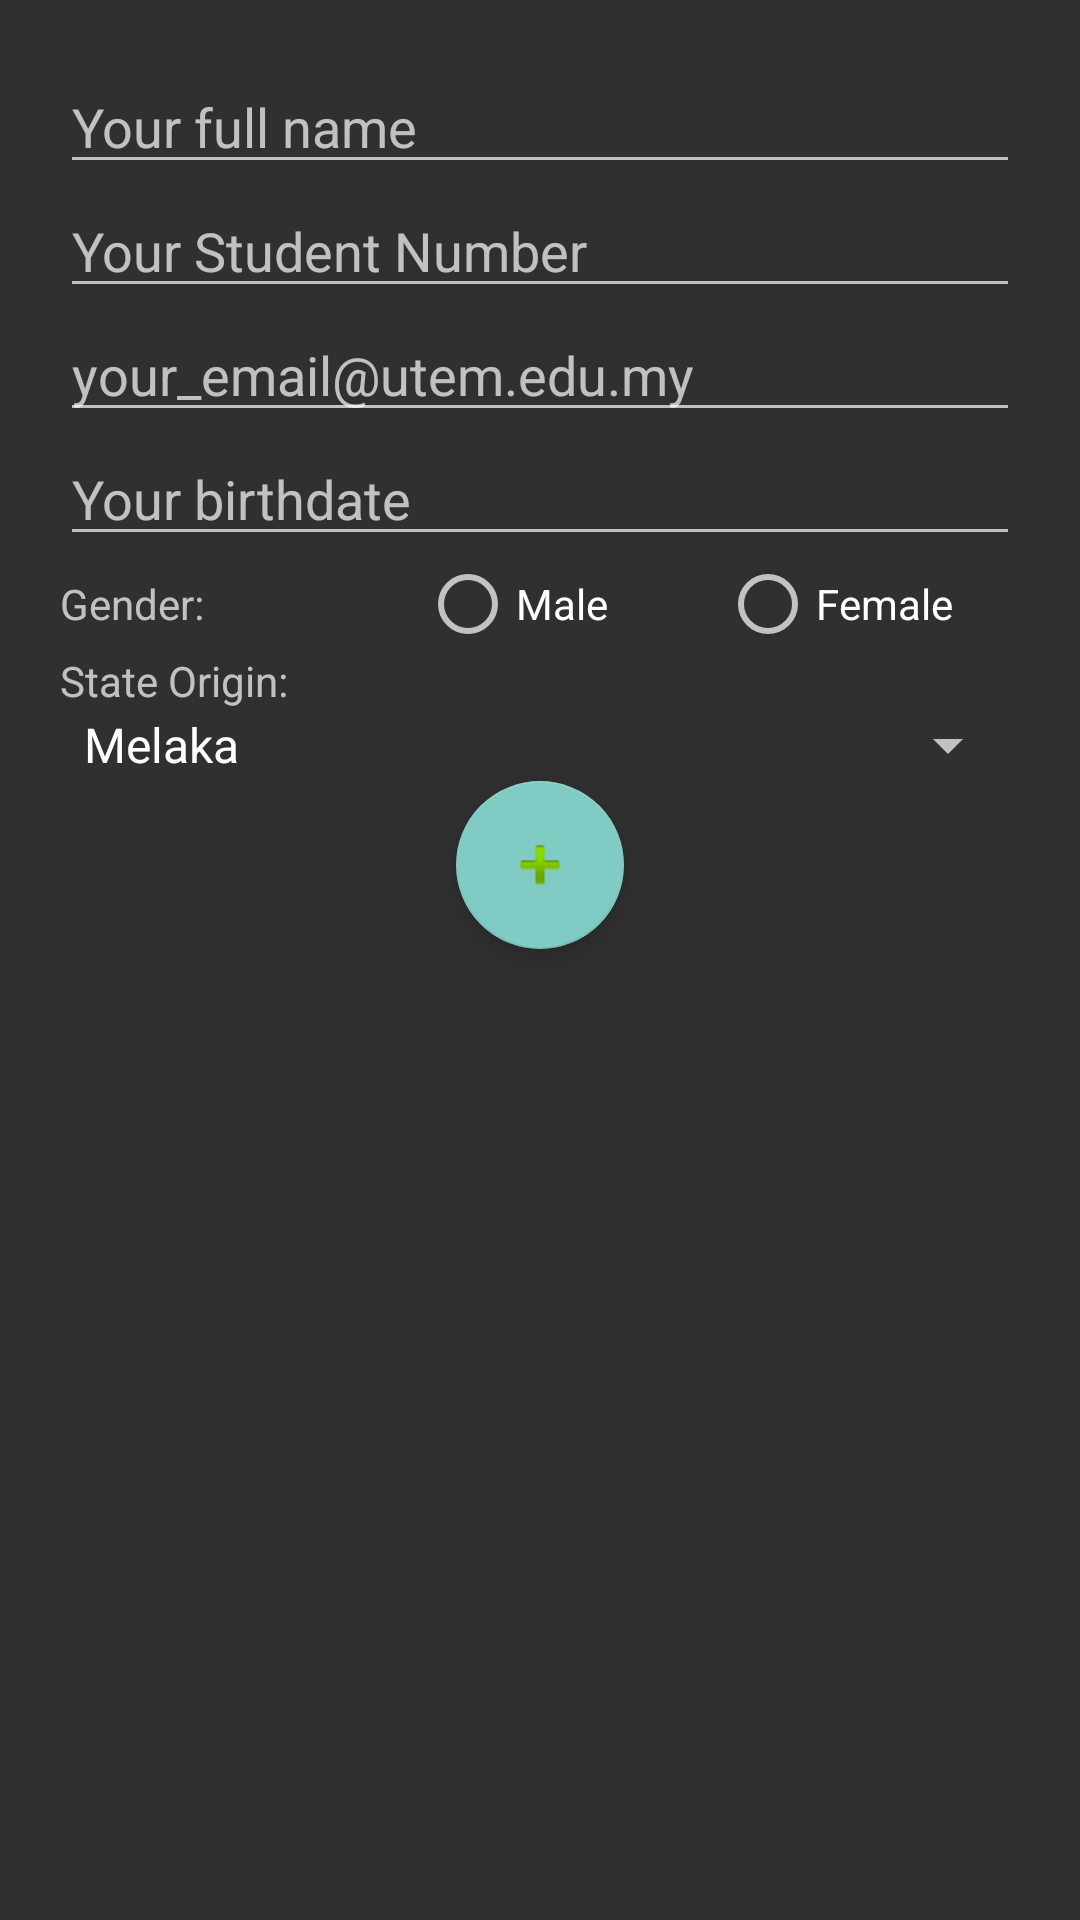

Locate icon controls on the screen. Image size 1080px×1920px, boxes as box(x1, y1, x2, y2).
add: box(456, 781, 624, 949)
